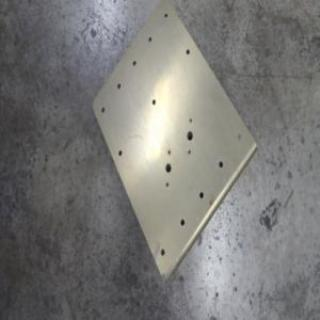MetalSheettrack_idkeyframe: (89, 0, 258, 287)
